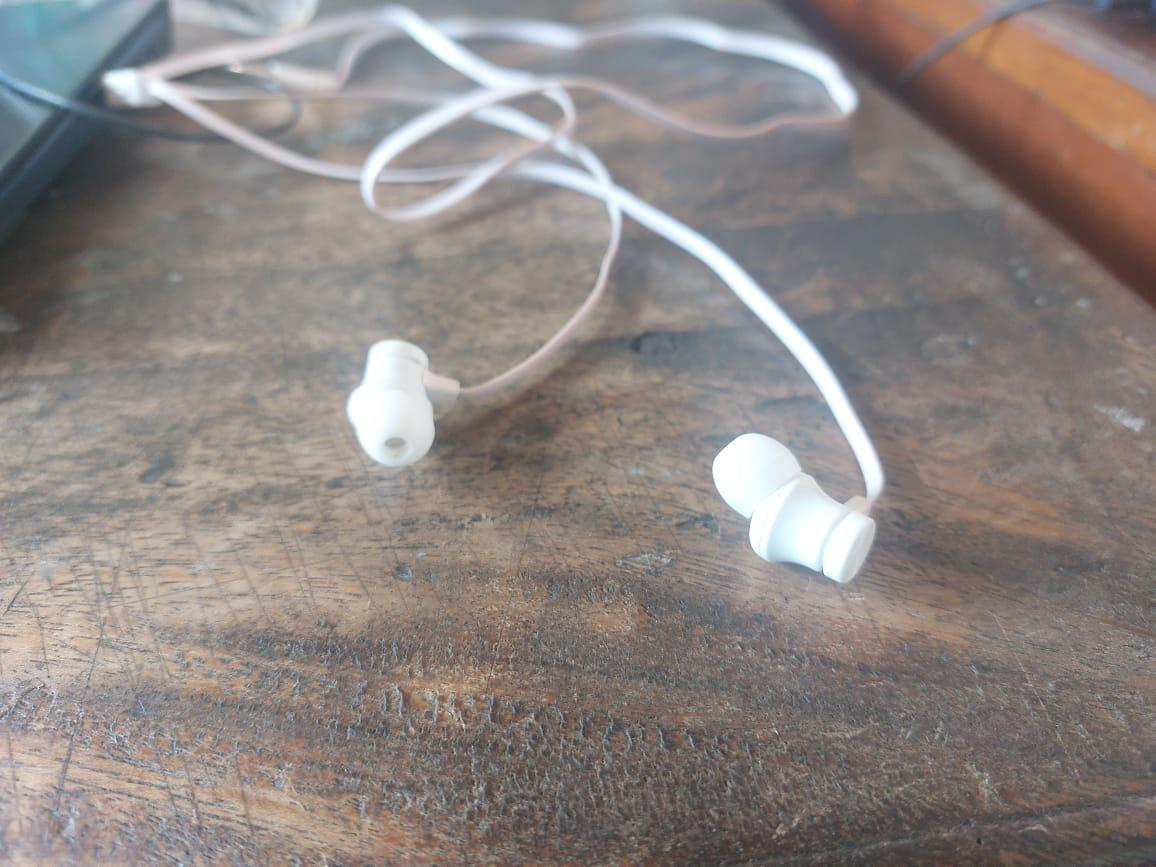Earphone: (708, 423, 897, 602), (343, 323, 467, 486)
